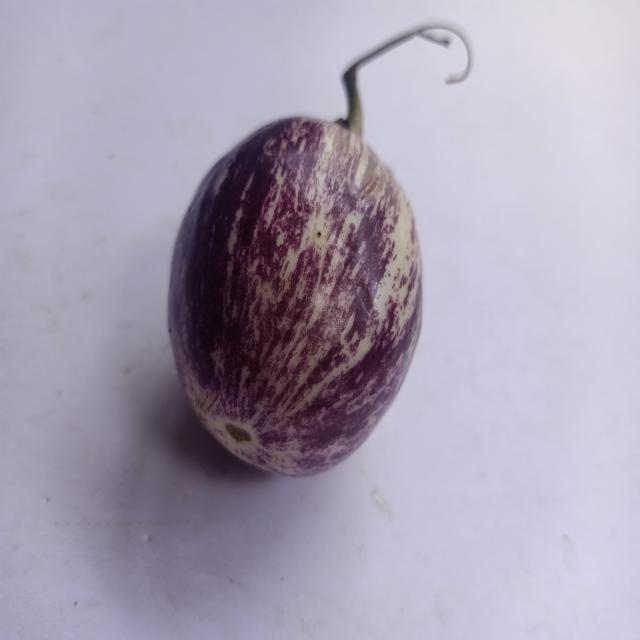Eggplant: (148, 3, 483, 500)
